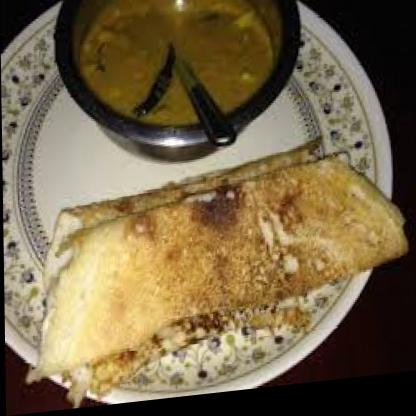dosa: (23, 157, 408, 383), (40, 142, 323, 413)
